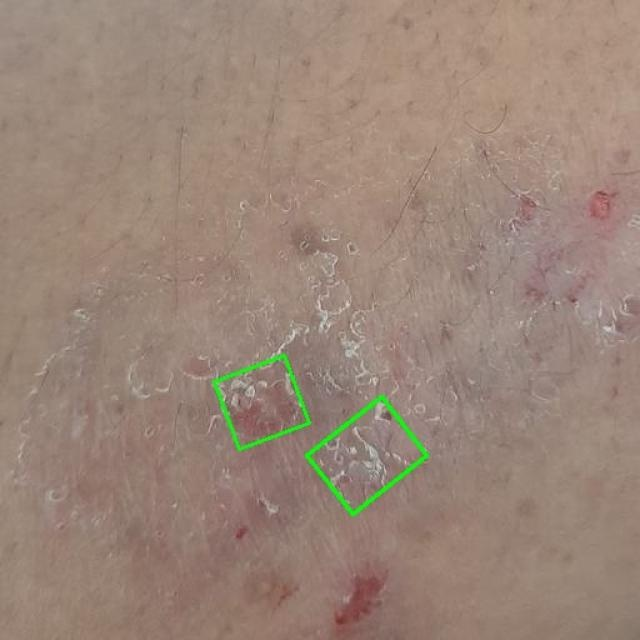Tinea Corporis: (307, 397, 427, 514), (214, 355, 309, 449)
